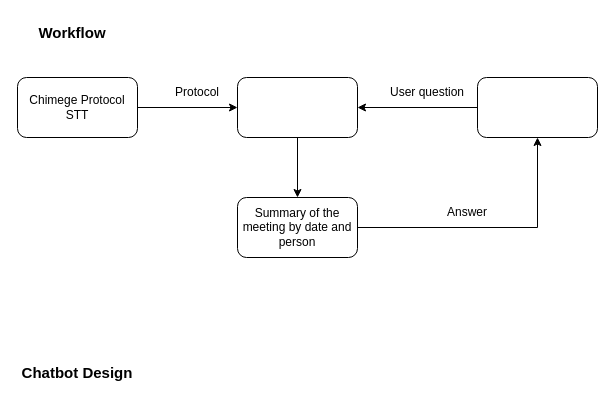
The diagram is 615 pixels wide and 404 high, and some of its shapes have lost their labels. Each missing label, with the box of its shape:
Chatbot: (236, 76, 358, 138)
User: (476, 76, 598, 138)
